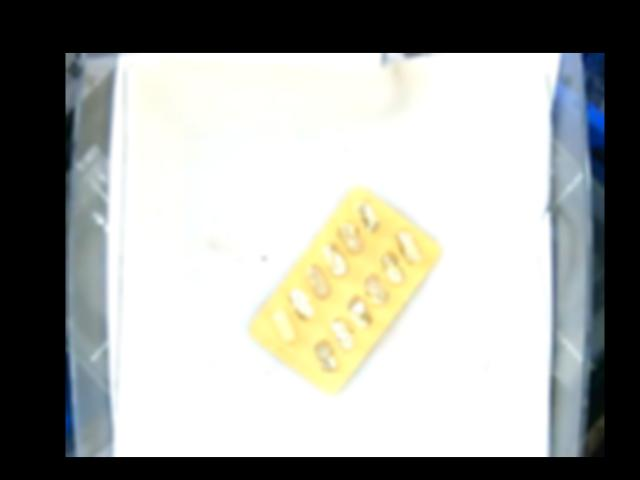Medicine: (245, 185, 437, 394)
